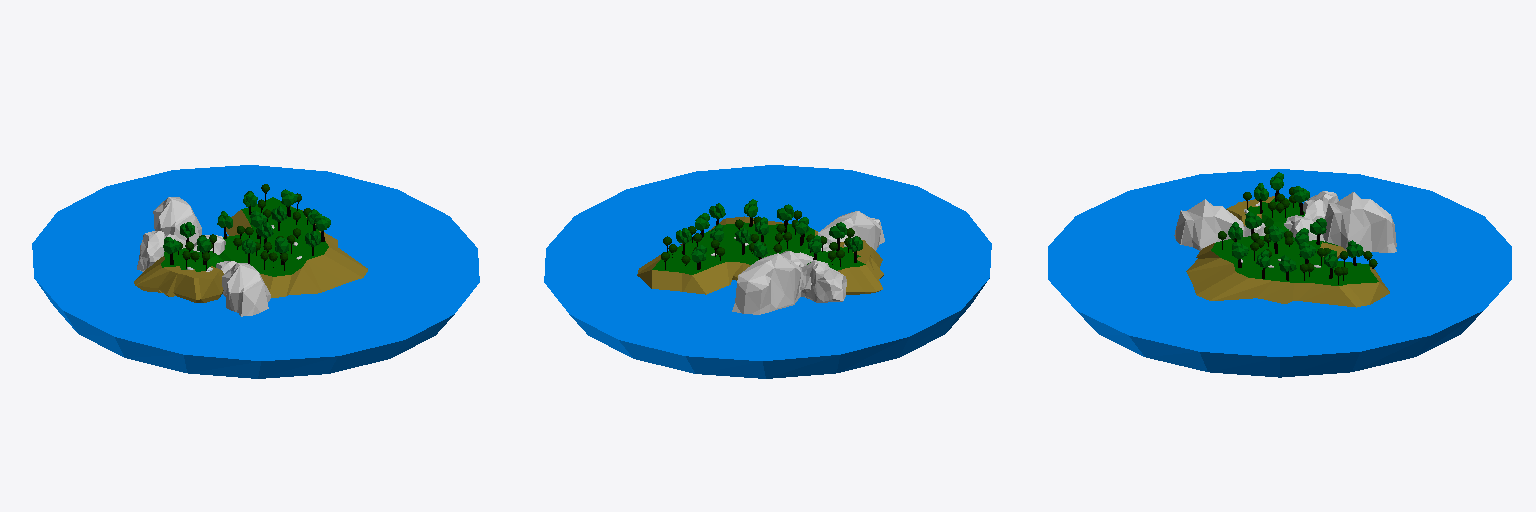
Rendered from Island_1220.obj.
3 renders of one model, left to right at view 1: azimuth 30°, elevation 25°; view 2: azimuth 150°, elevation 25°; view 3: azimuth 270°, elevation 25°, orthographic.
Visible parts, largest first — view 1: tree_2_033; view 2: tree_2_033; view 3: tree_2_033.
Part boxes in pixels (x1,y1,x2,y2): tree_2_033: (32, 165, 479, 378); tree_2_033: (544, 165, 991, 378); tree_2_033: (1048, 169, 1511, 377).
Bounding box in the file's own units: 364 × 76.34 × 379.